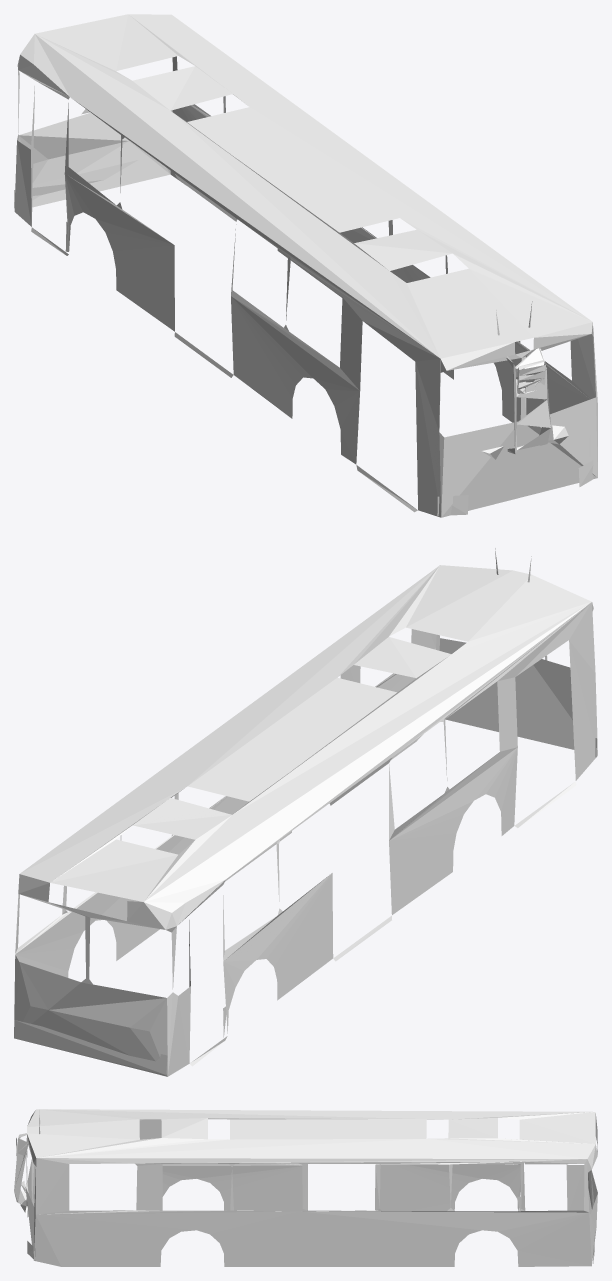
The picture shows the model from 3 angles, top to bottom: view 1: azimuth 30°, elevation 25°; view 2: azimuth 150°, elevation 25°; view 3: azimuth 270°, elevation 25°; orthographic projection. The views are drawn at different scales.
Size of the model in its own units: 2.39 by 2.85 by 11.35.
Materials: 1 (1 with a texture image).
